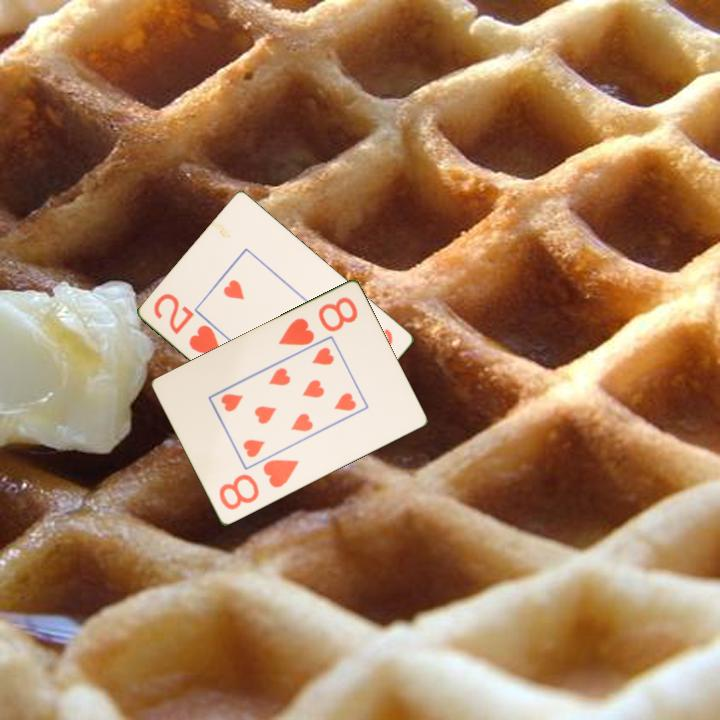2h: (150, 290, 225, 359)
8h: (215, 456, 302, 514), (275, 293, 360, 349)
